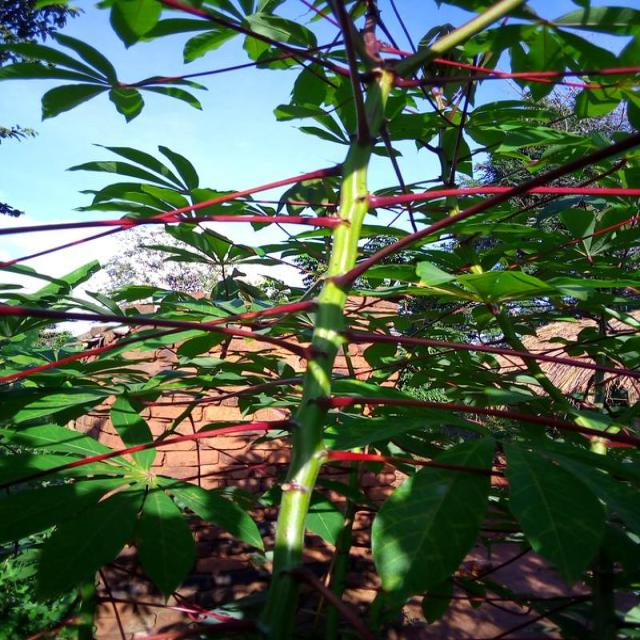cassava leaf: (370, 435, 495, 603), (502, 437, 607, 588)
